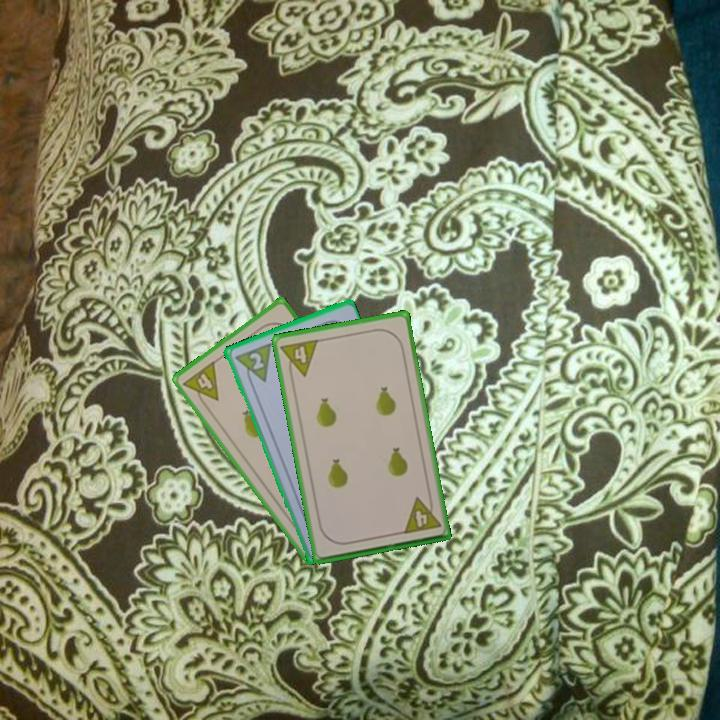2p: (230, 339, 274, 390)
4p: (179, 357, 222, 411), (277, 336, 321, 381), (399, 492, 443, 537)
